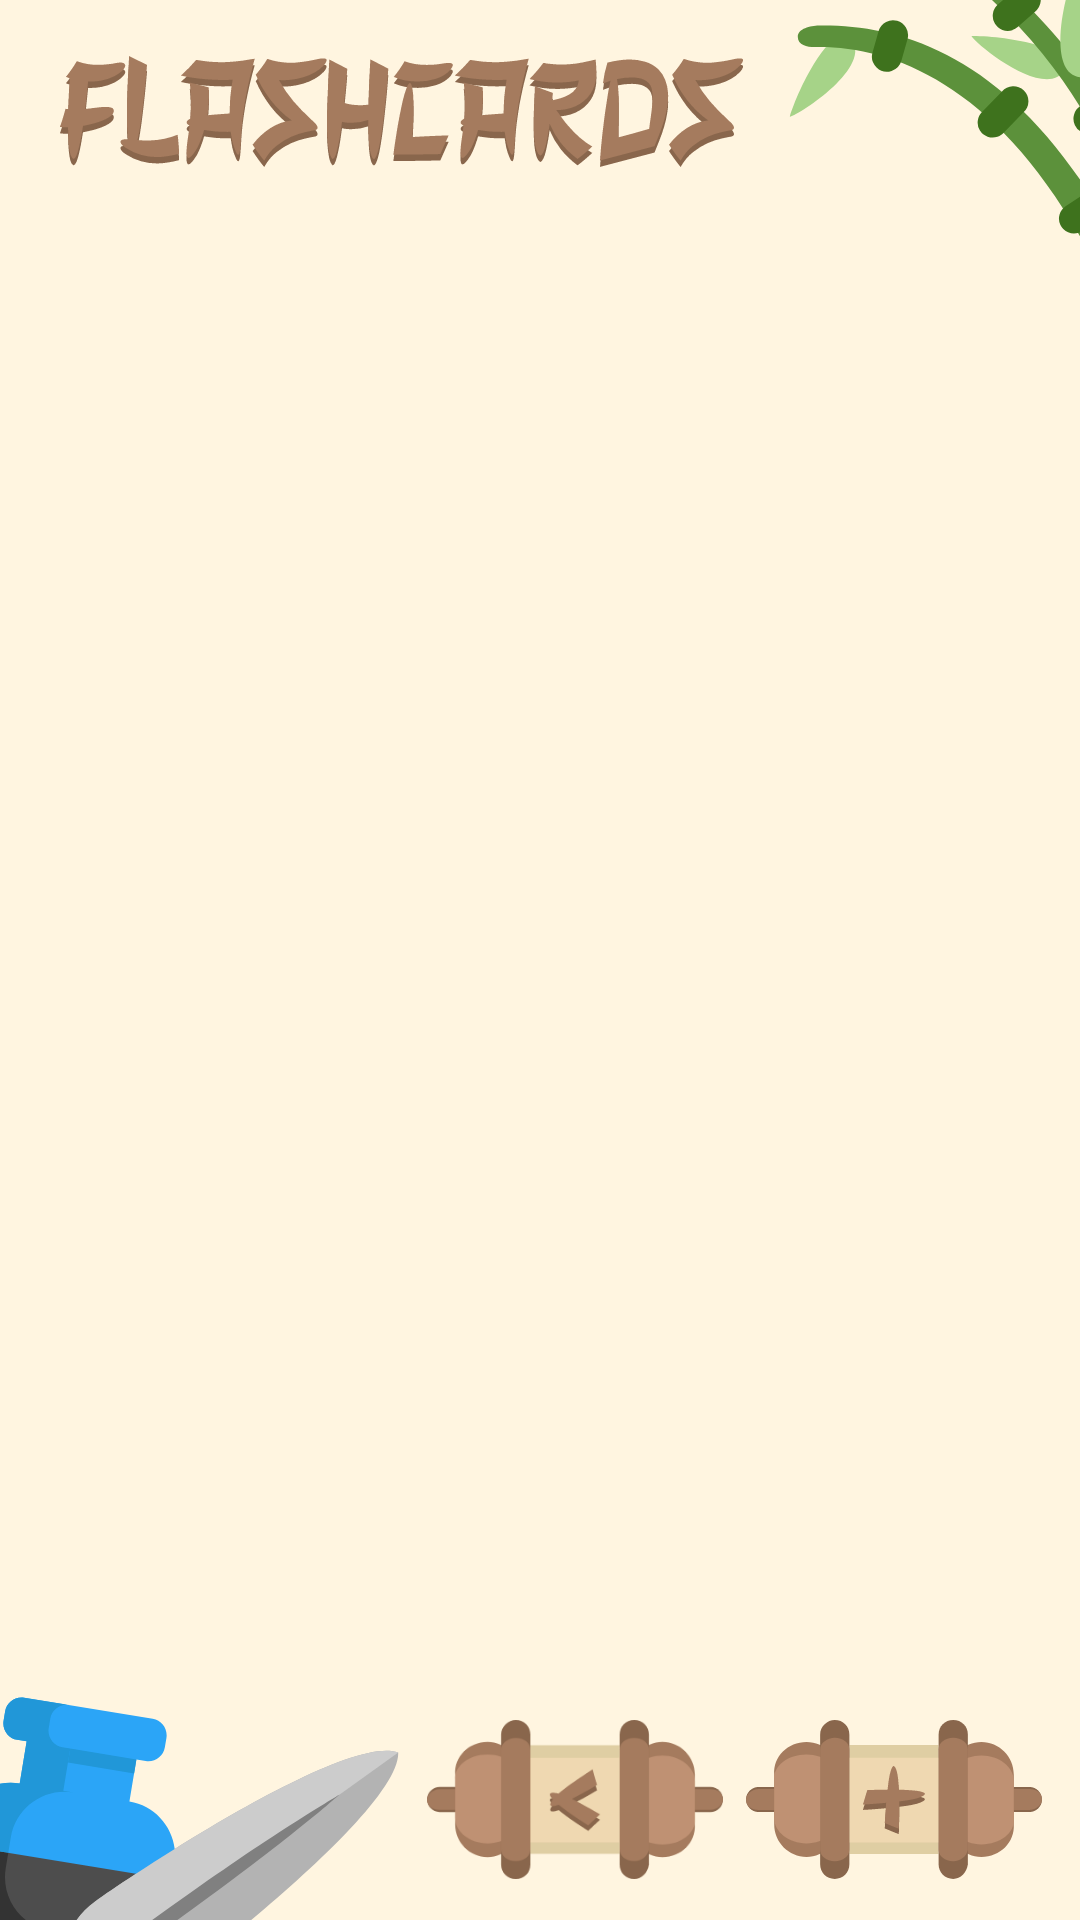

Screen size 1080×1920. Icon name, then its center in pixels as (x,y):
add: (894,1799)
back: (575,1799)
